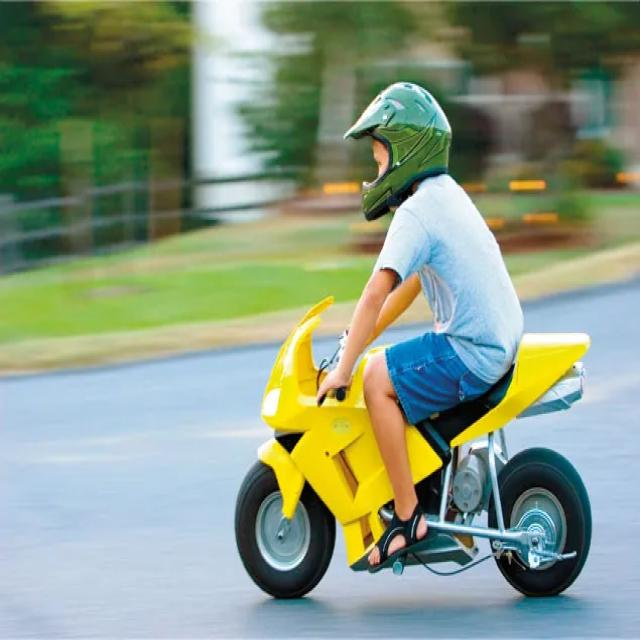Helmet: (342, 80, 452, 222)
